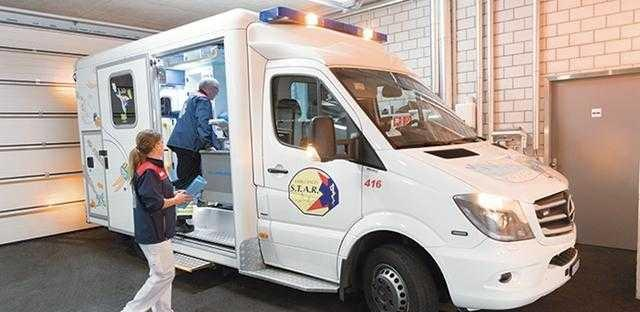car: (73, 5, 581, 311)
